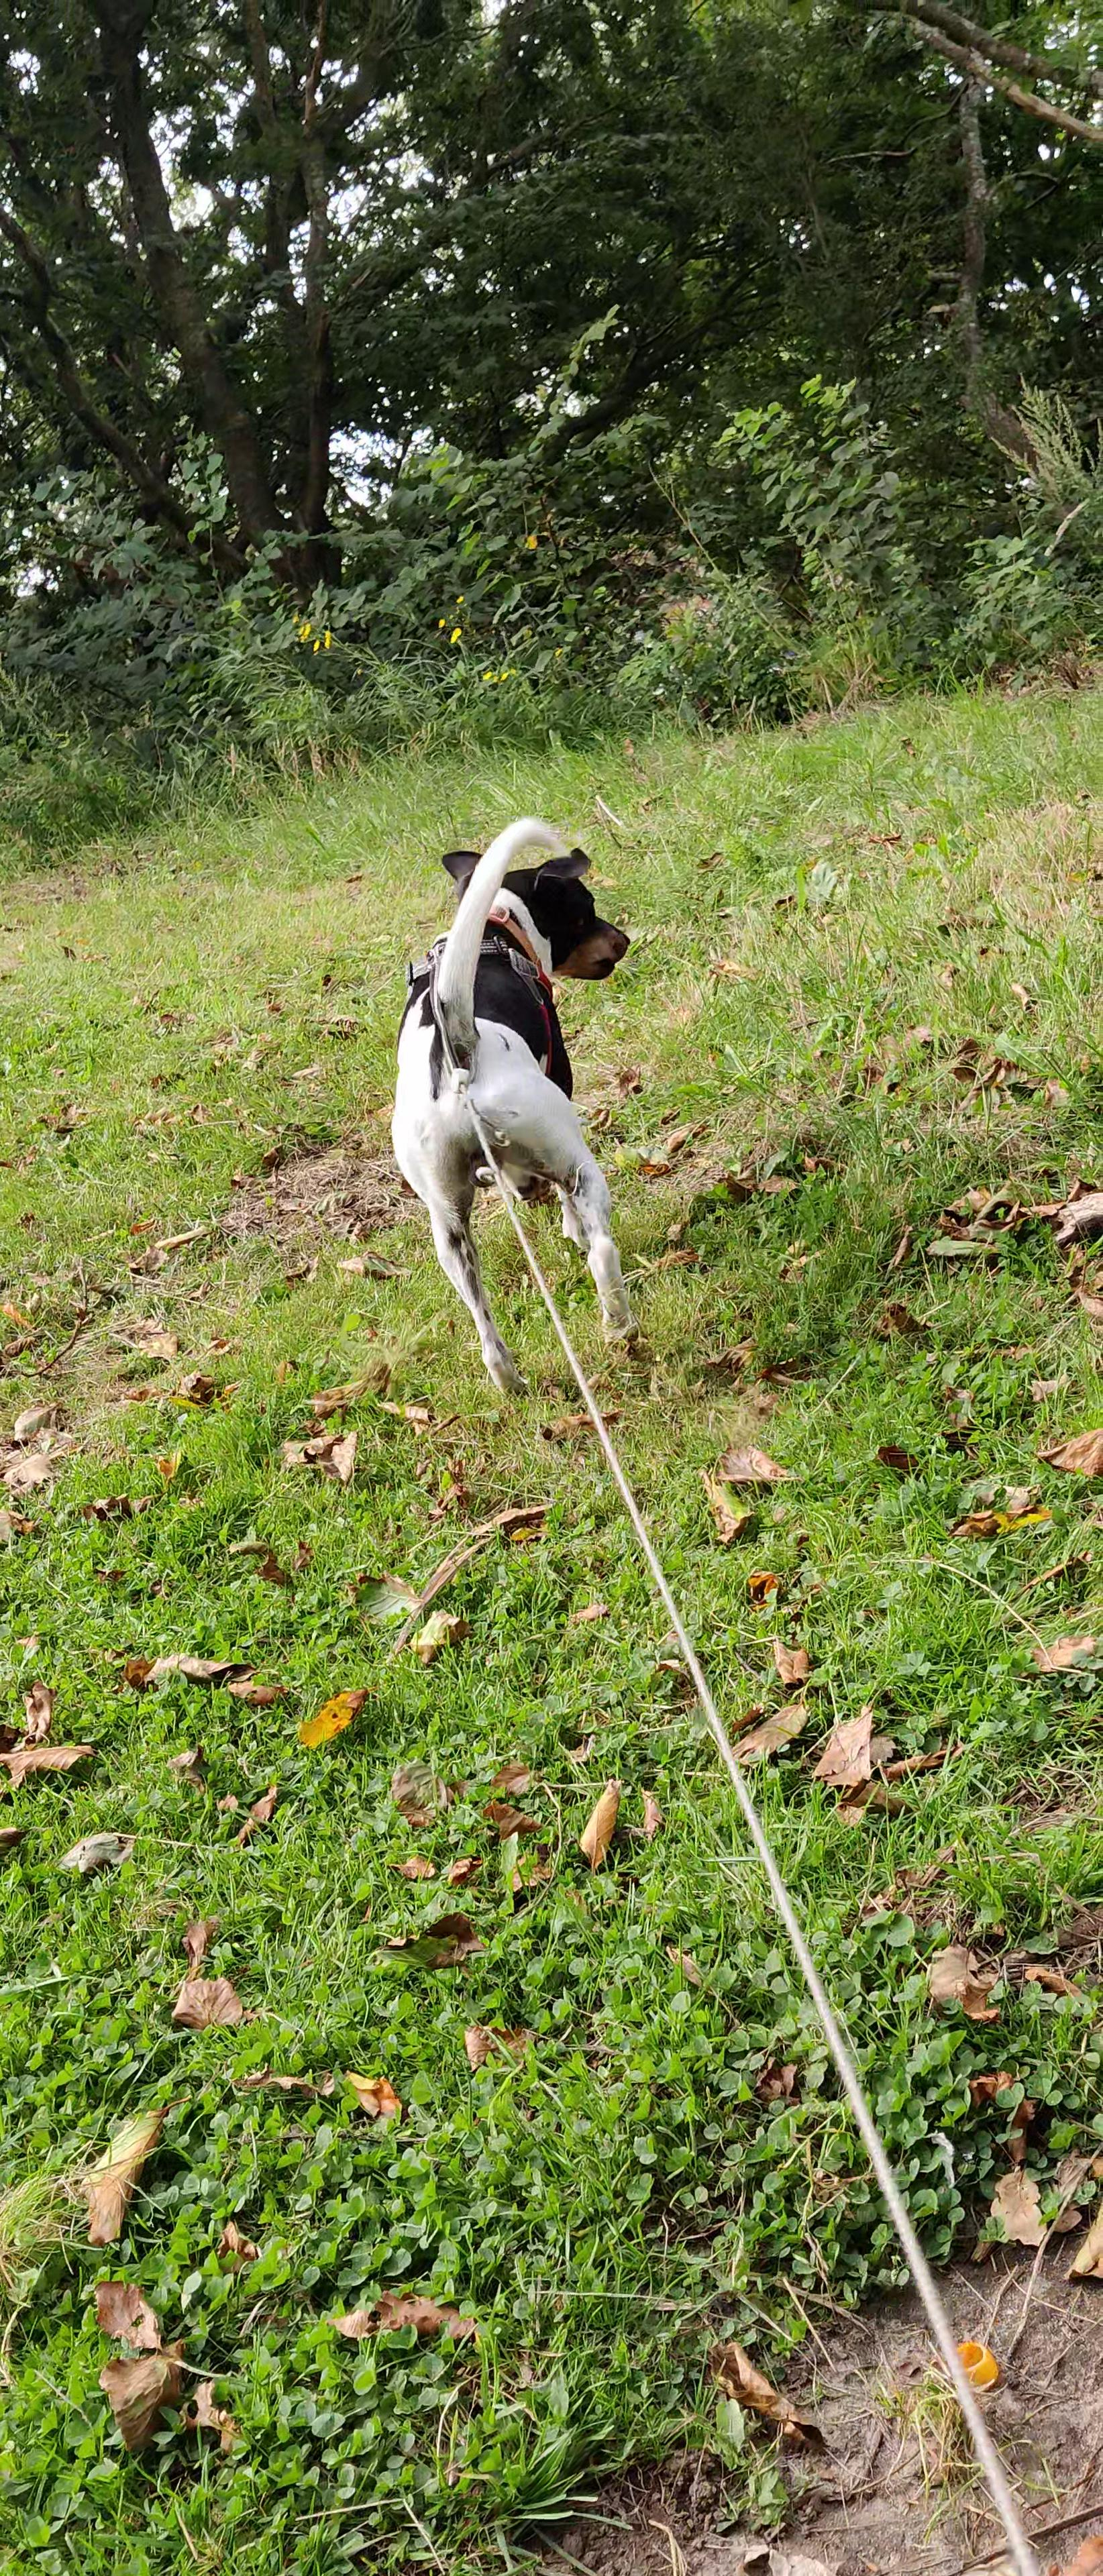Dog: (380, 815, 651, 1401)
